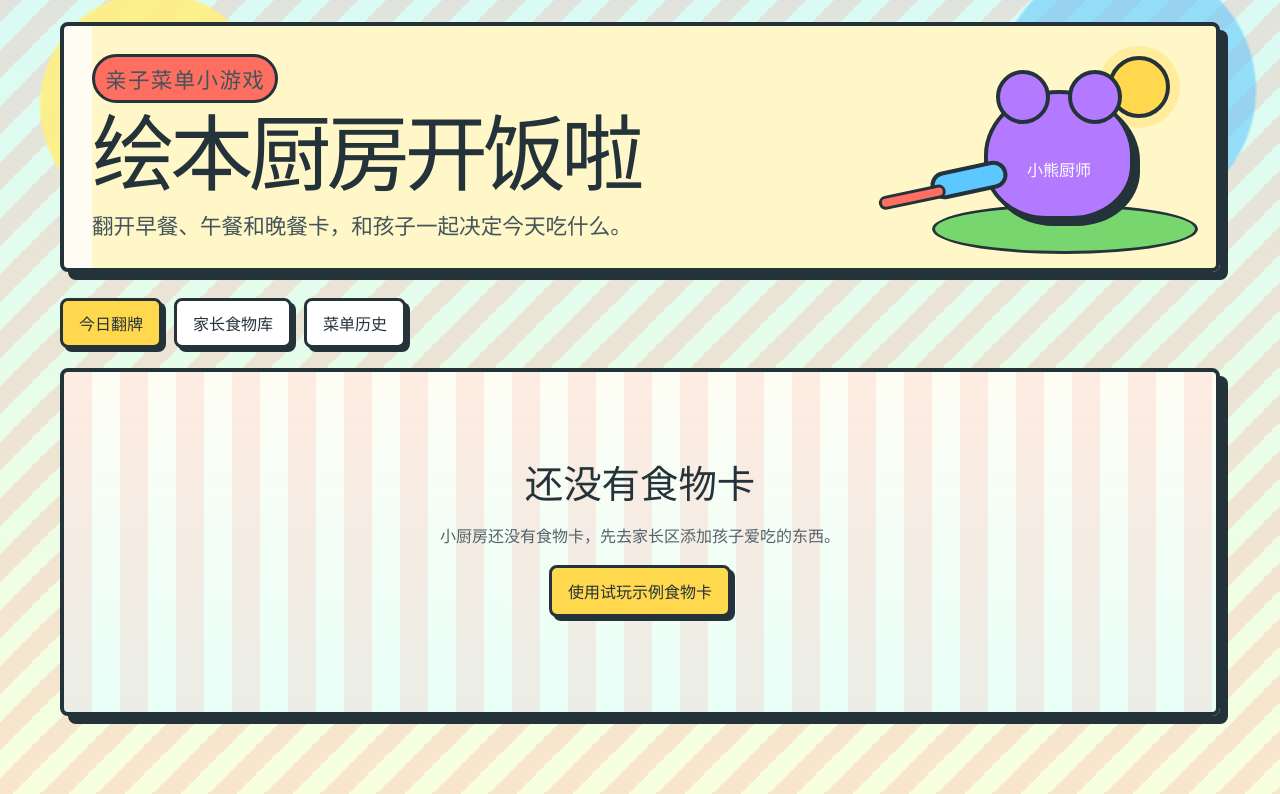
Test case: App › loads demo foods from the empty state so the card game can be tried immediately
The image size is (1280, 794).
Click the button "使用试玩示例食物卡" at (640, 591), box x1=549 y1=565 x2=731 y2=617
(page scrolled)
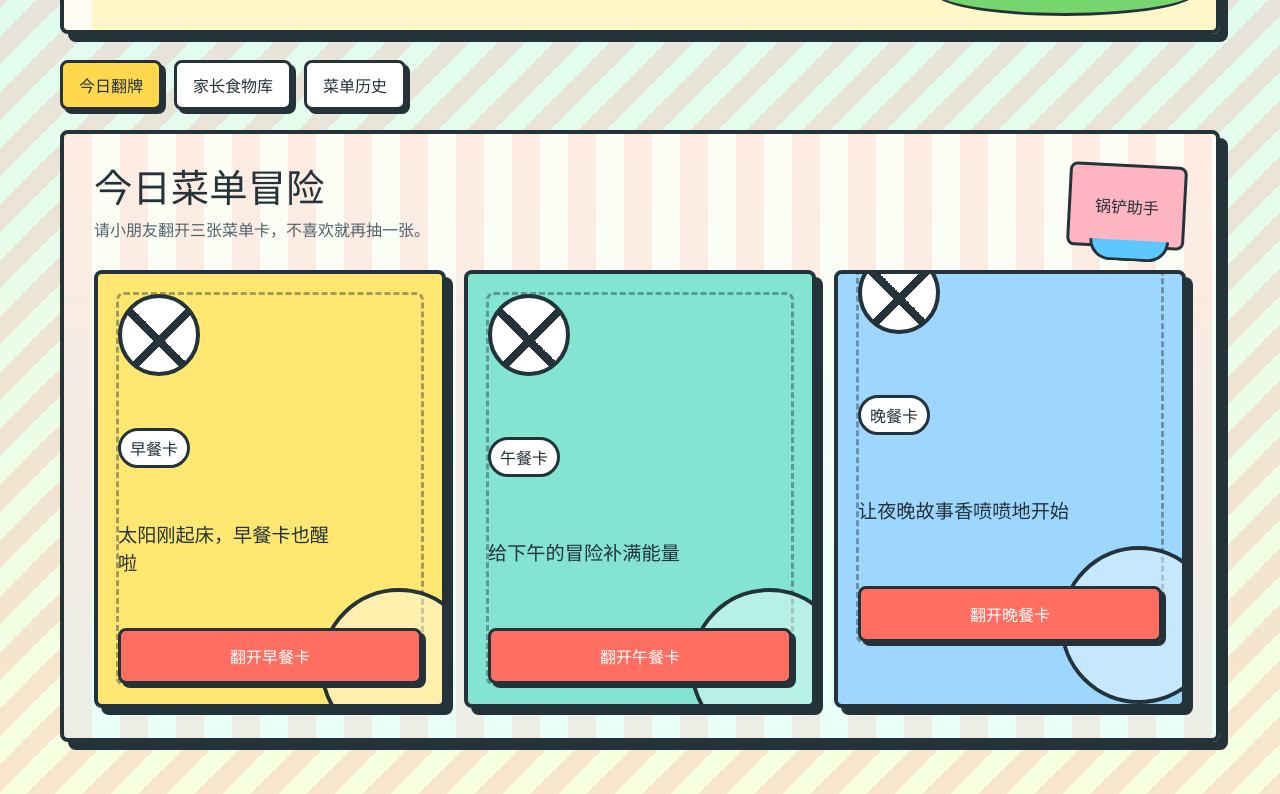
Now the button "翻开早餐卡" is shown, box x1=118 y1=628 x2=422 y2=684
Now the button "翻开午餐卡" is shown, box x1=488 y1=628 x2=792 y2=684
Now the button "翻开晚餐卡" is shown, box x1=858 y1=586 x2=1162 y2=642
